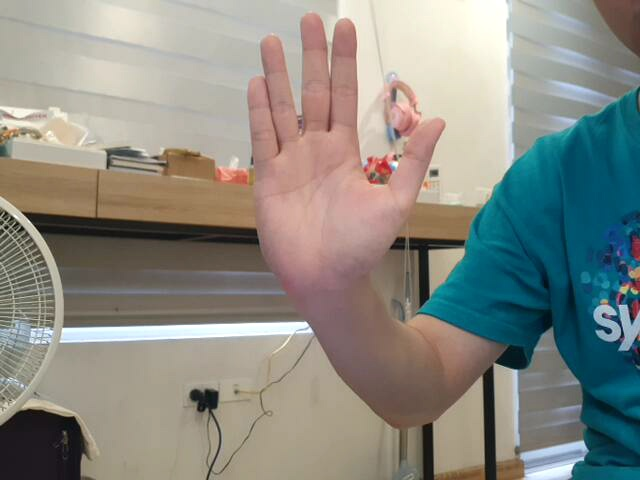LiveLong: (239, 9, 448, 298)
